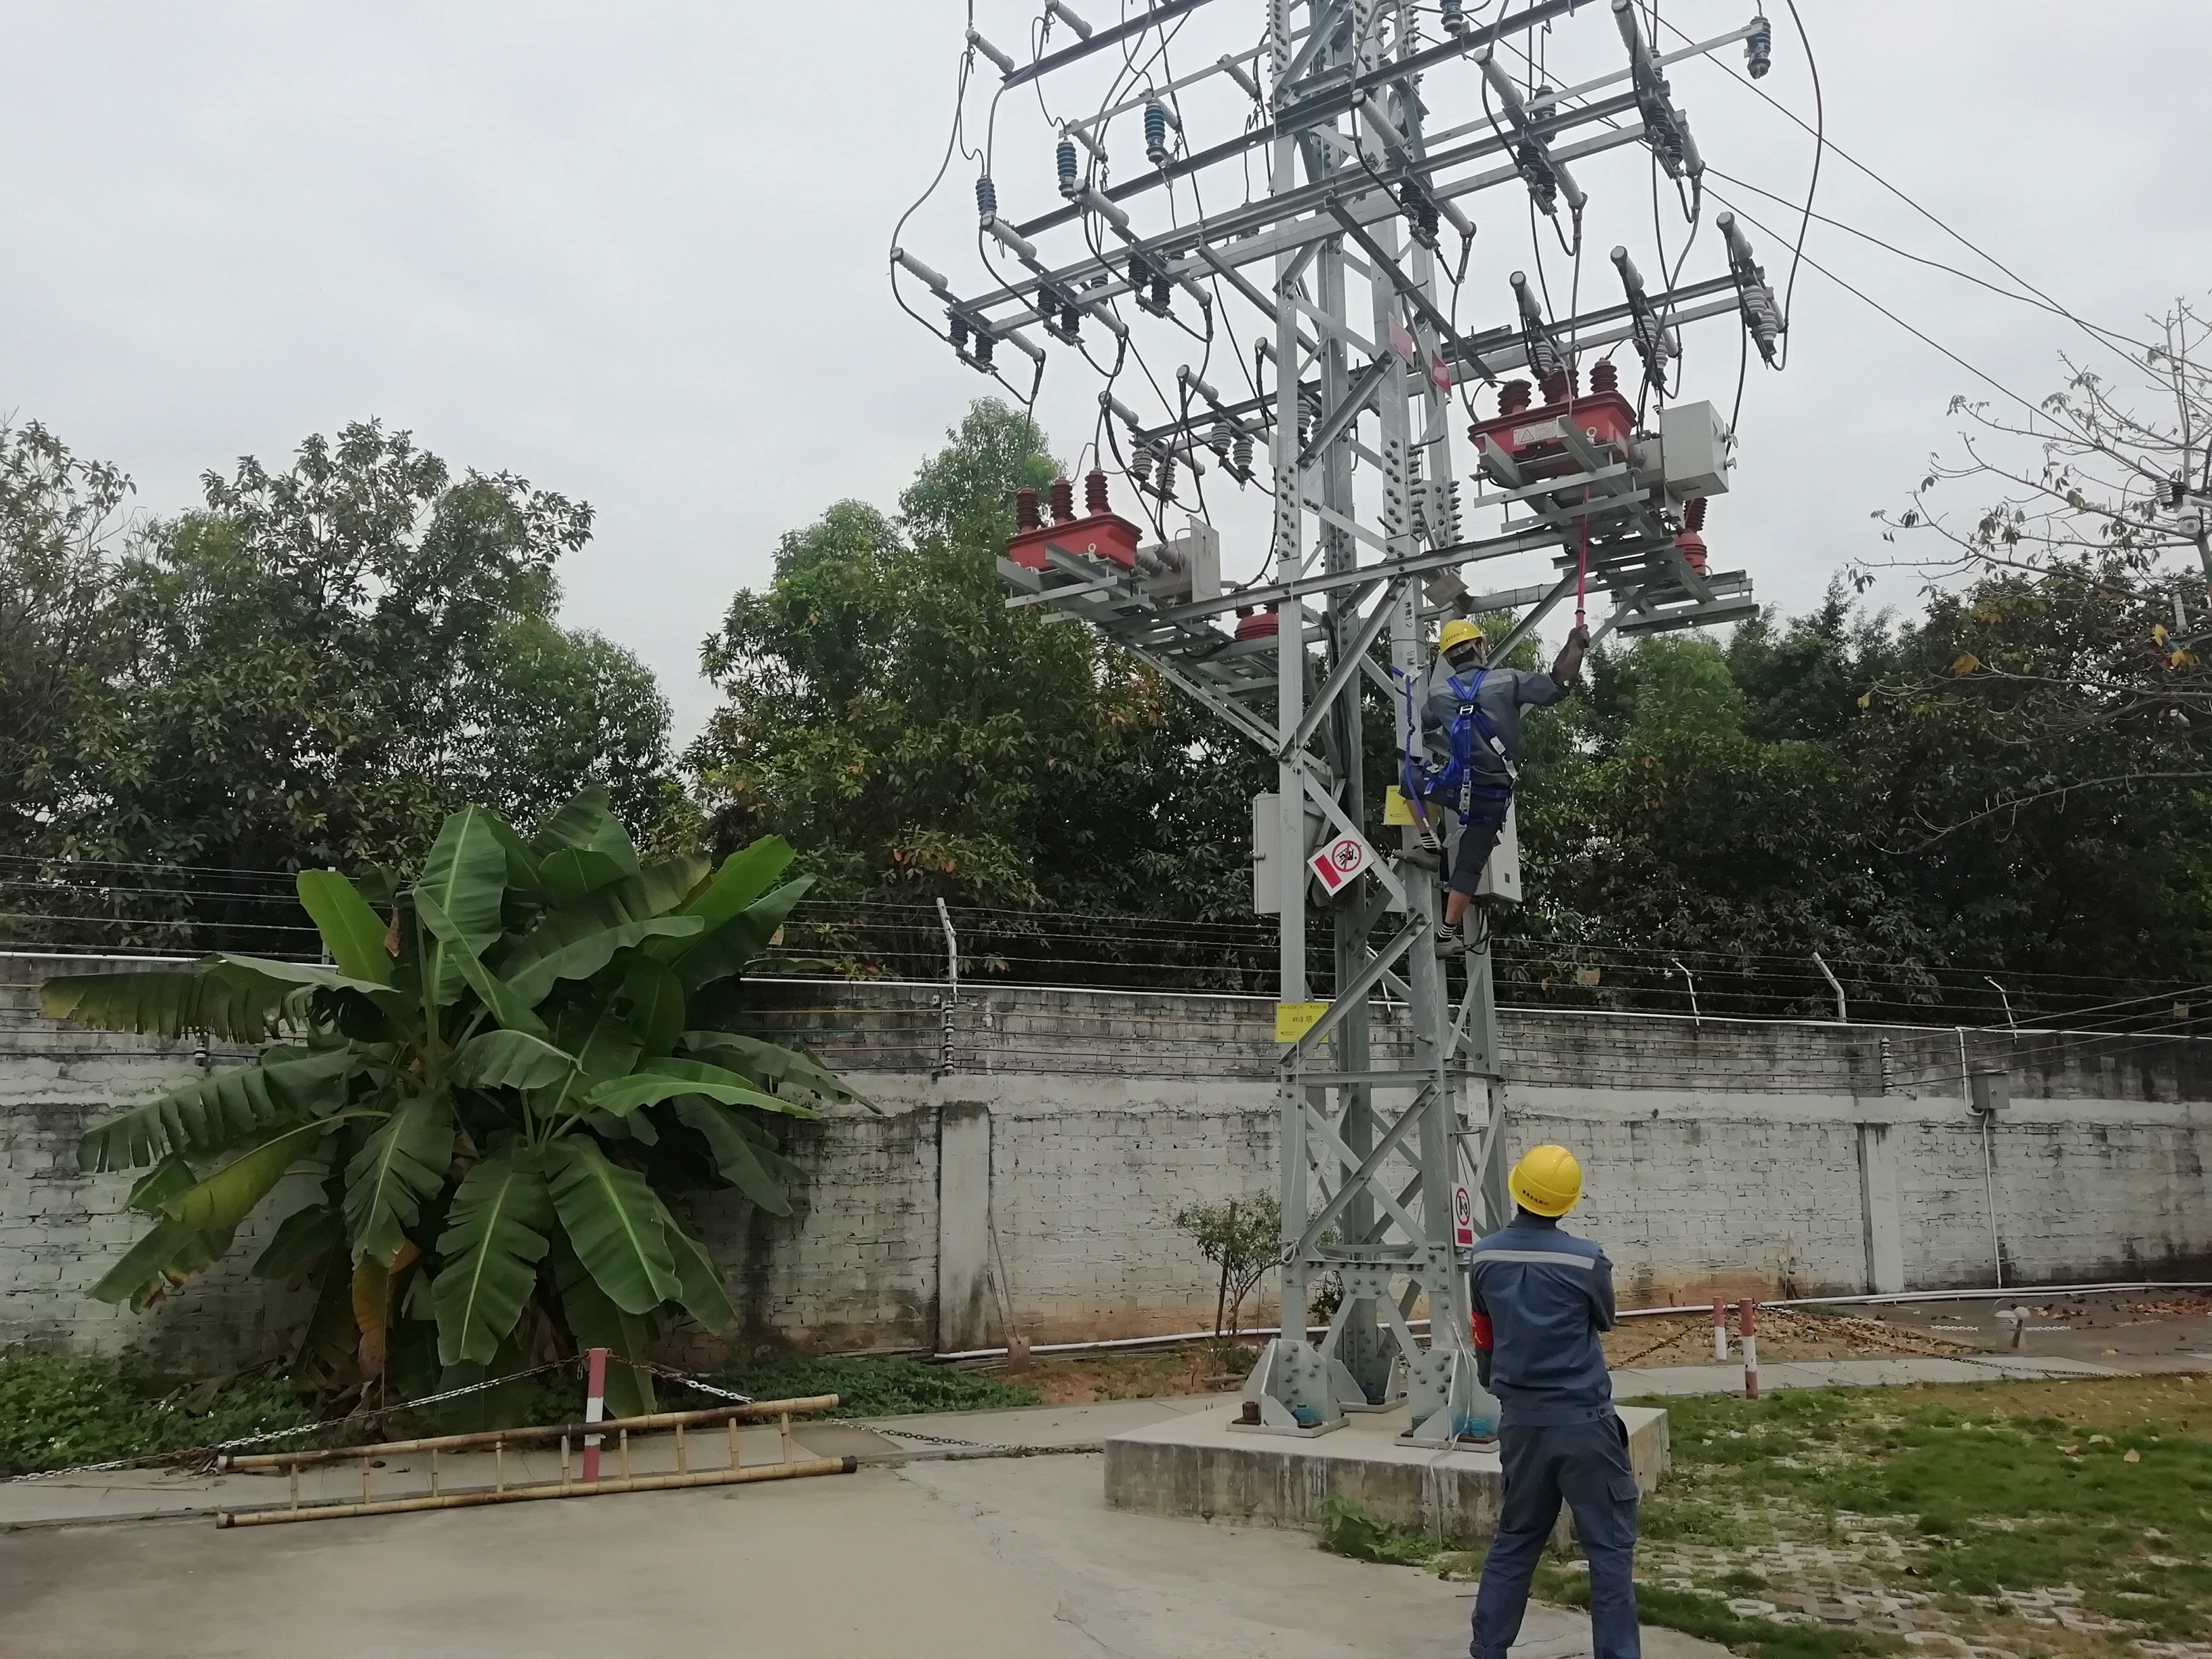downsuit: (1477, 1422, 1641, 1659), (1446, 779, 1515, 899)
upsuit: (1472, 1218, 1622, 1394), (1425, 669, 1561, 774)
wrongbottom: (1440, 870, 1486, 938), (1404, 765, 1439, 852)
